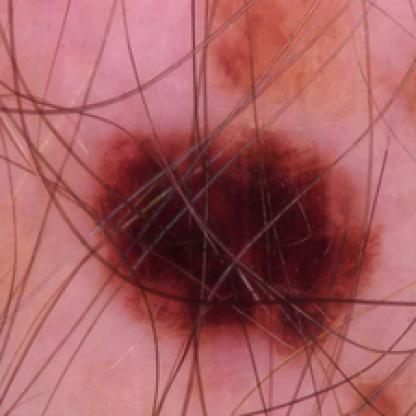benign: (82, 0, 412, 414)
